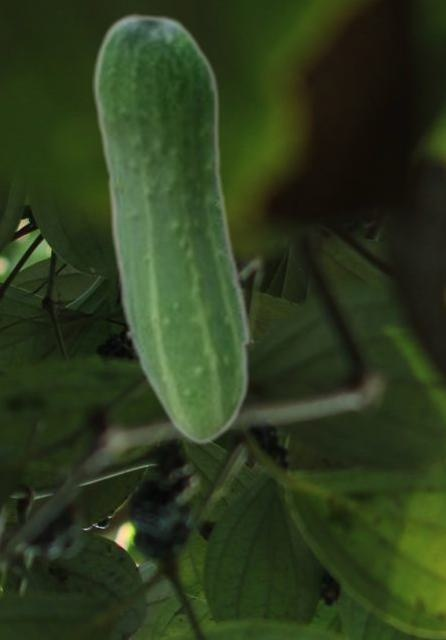cucumber: (92, 11, 251, 444)
